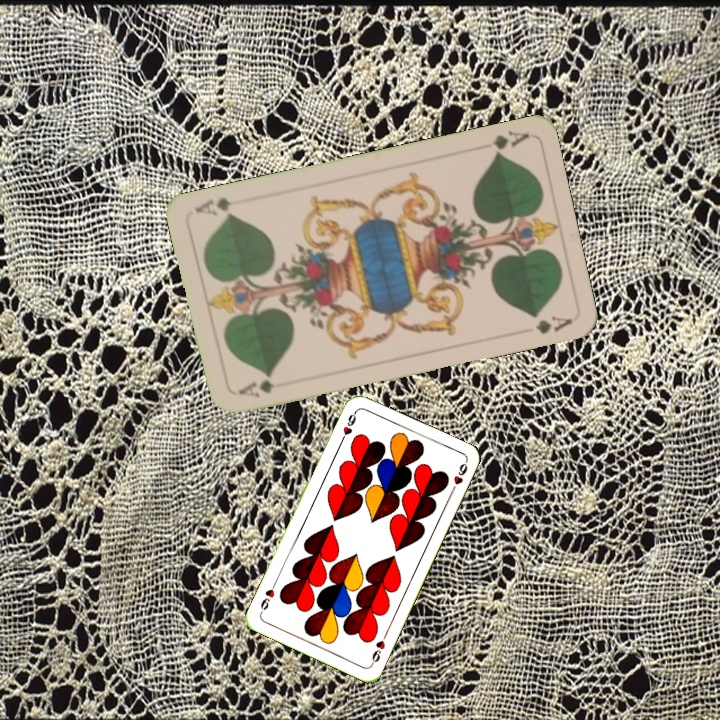GA: (488, 127, 531, 158), (234, 370, 277, 401)
H9: (367, 629, 390, 668), (336, 407, 359, 446)
